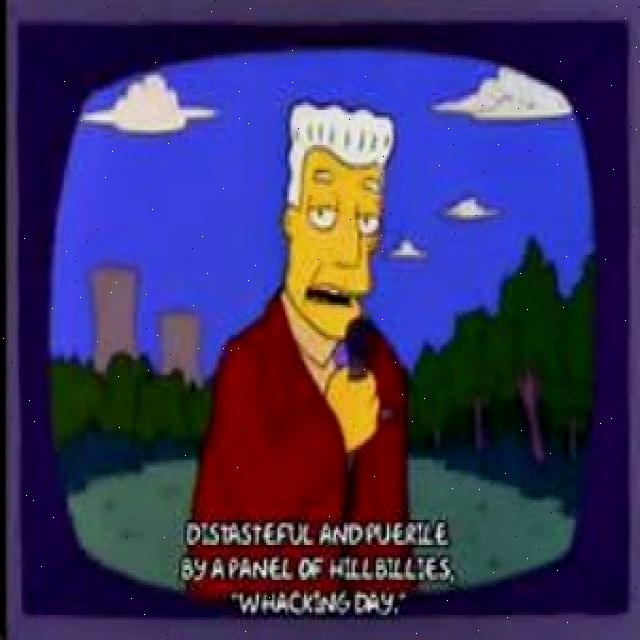Kent Brockman: (278, 88, 398, 348)
